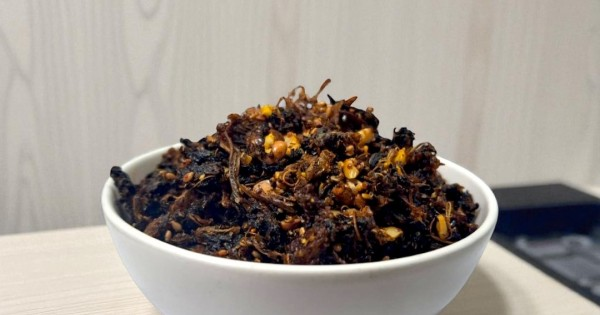gundruk: (141, 96, 452, 242)
